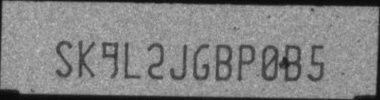0: (261, 43, 279, 81)
2: (146, 40, 164, 79)
5: (306, 44, 325, 82)
9: (101, 40, 118, 79)
B: (214, 41, 232, 80), (284, 43, 302, 82)
G: (191, 43, 210, 79)
J: (170, 43, 188, 80)
K: (78, 39, 96, 79)
L: (123, 41, 142, 80)
P: (236, 43, 256, 81)
S: (55, 41, 73, 78)
